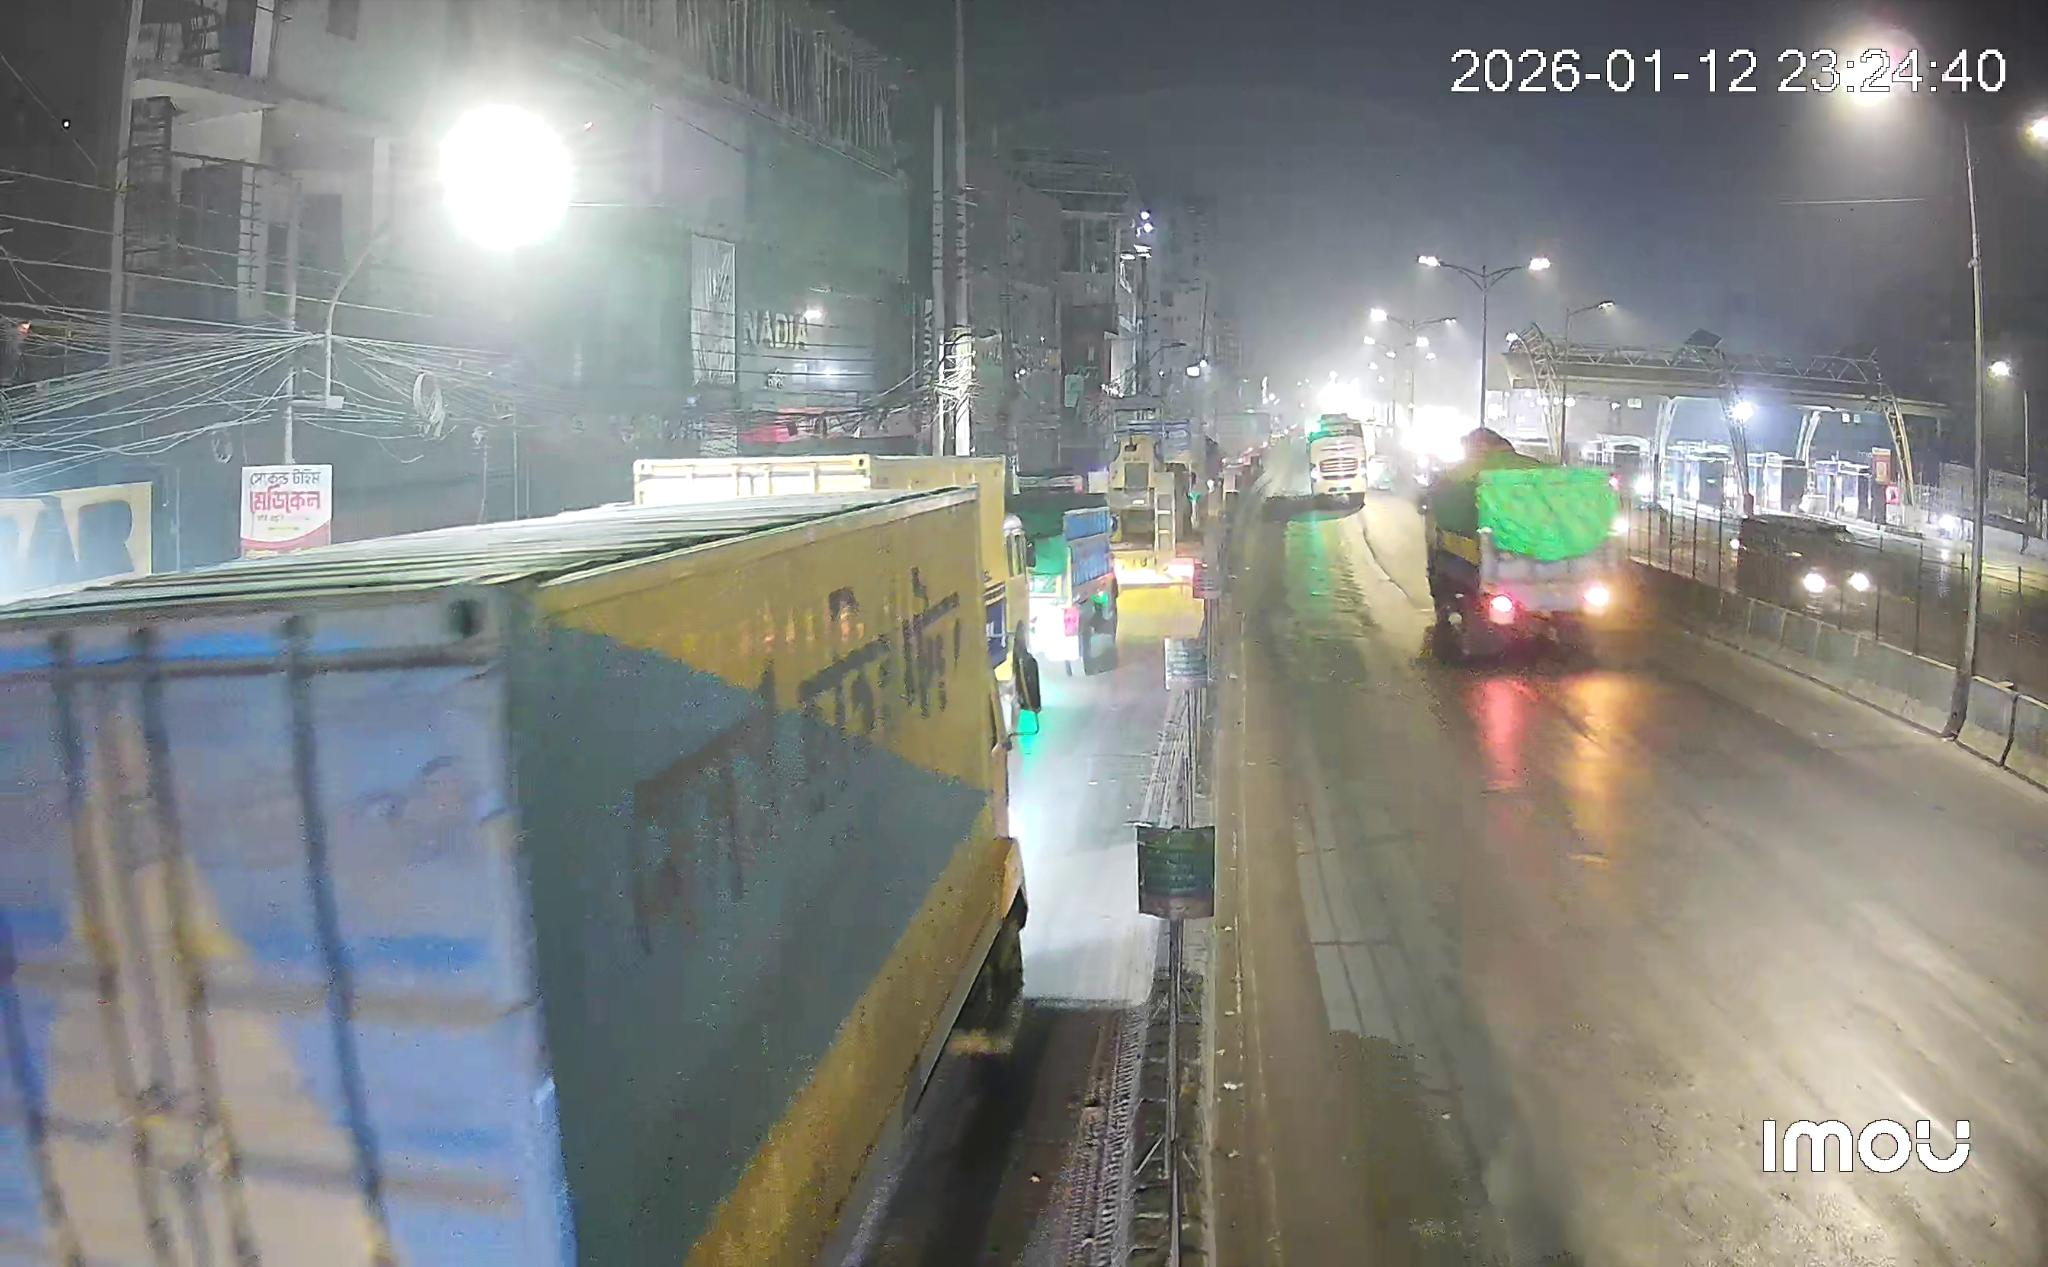Bus: (1308, 416, 1366, 509)
Microbus: (1731, 514, 1877, 623)
Truck: (0, 486, 1031, 1267), (636, 452, 1030, 720), (1420, 427, 1625, 654), (1017, 495, 1116, 674)
